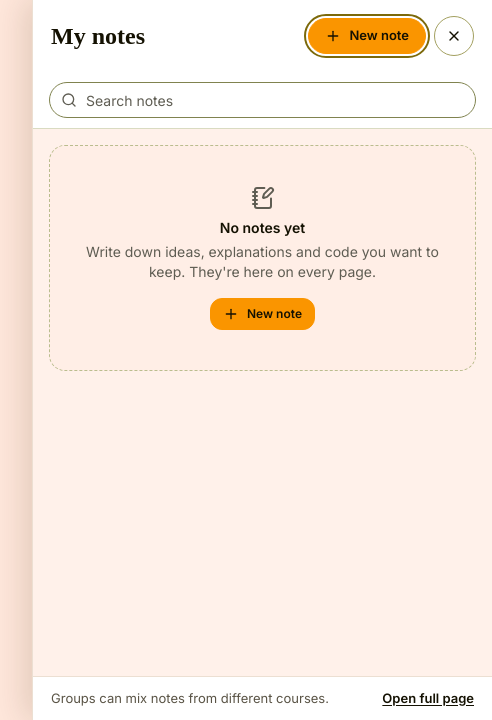
Scenario: My Notes panel › creates a note, auto-saves it and only then says Saved
Later steps or results of the test are not shown.
Expected: the text "No notes yet" is shown, [220,219,305,236]
Click the button "New note" in the row of "My notes" at (367, 36), box [308,18,426,54]
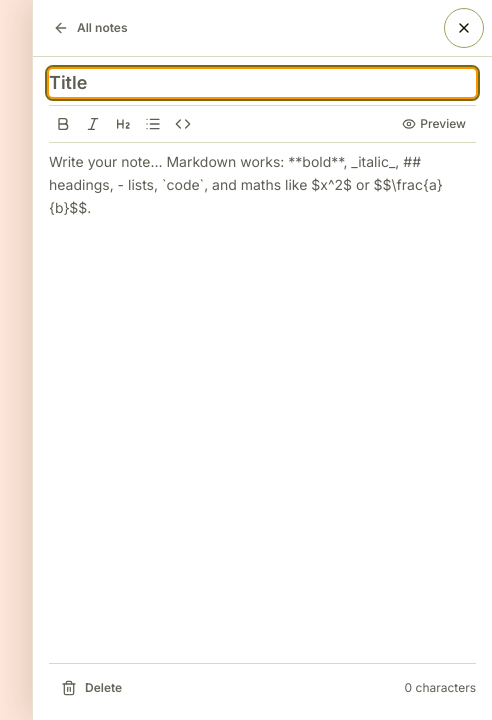
Type "Recursion" into the field with placeholder "Title" at (262, 83), box [49,69,476,97]
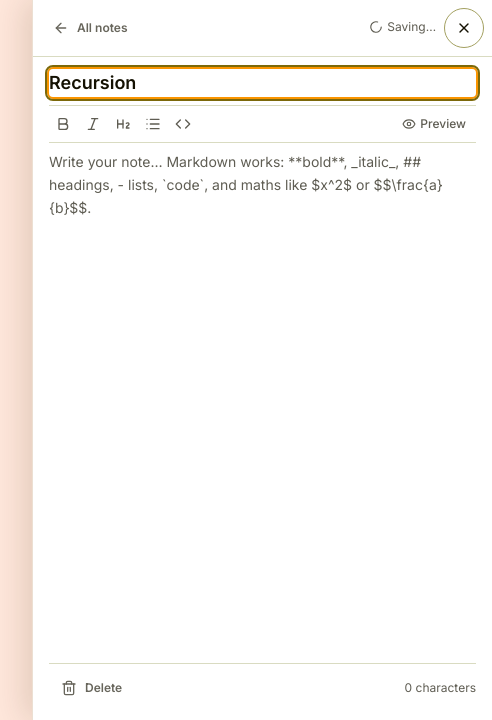
Replace the text in the text box labelled "note" with "A function that calls itself." at (262, 403), box [49,151,476,655]
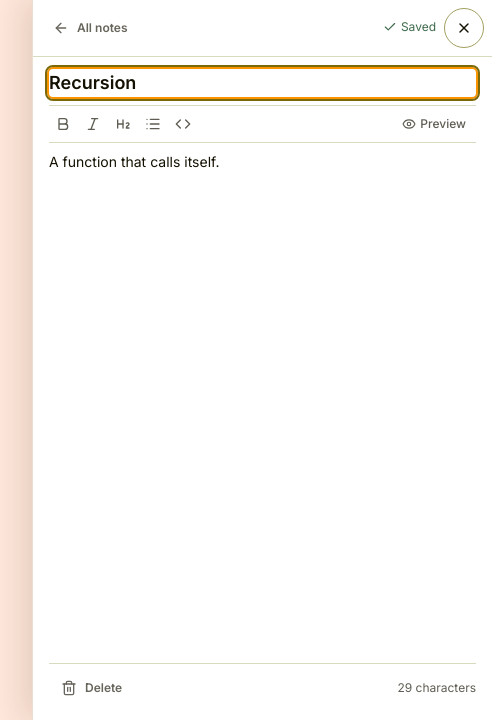
Expected: the message reads "Saved", [401,19,436,34]
